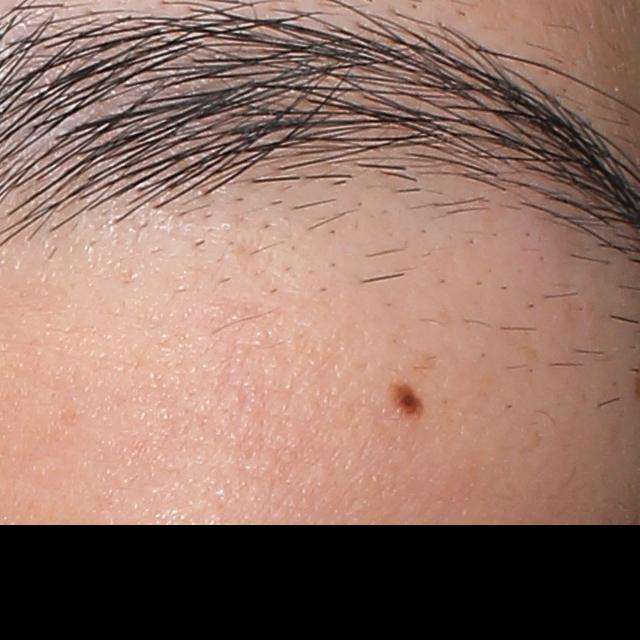nevus: (383, 377, 428, 420)
